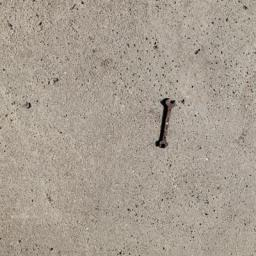FOD: (152, 93, 180, 155)
